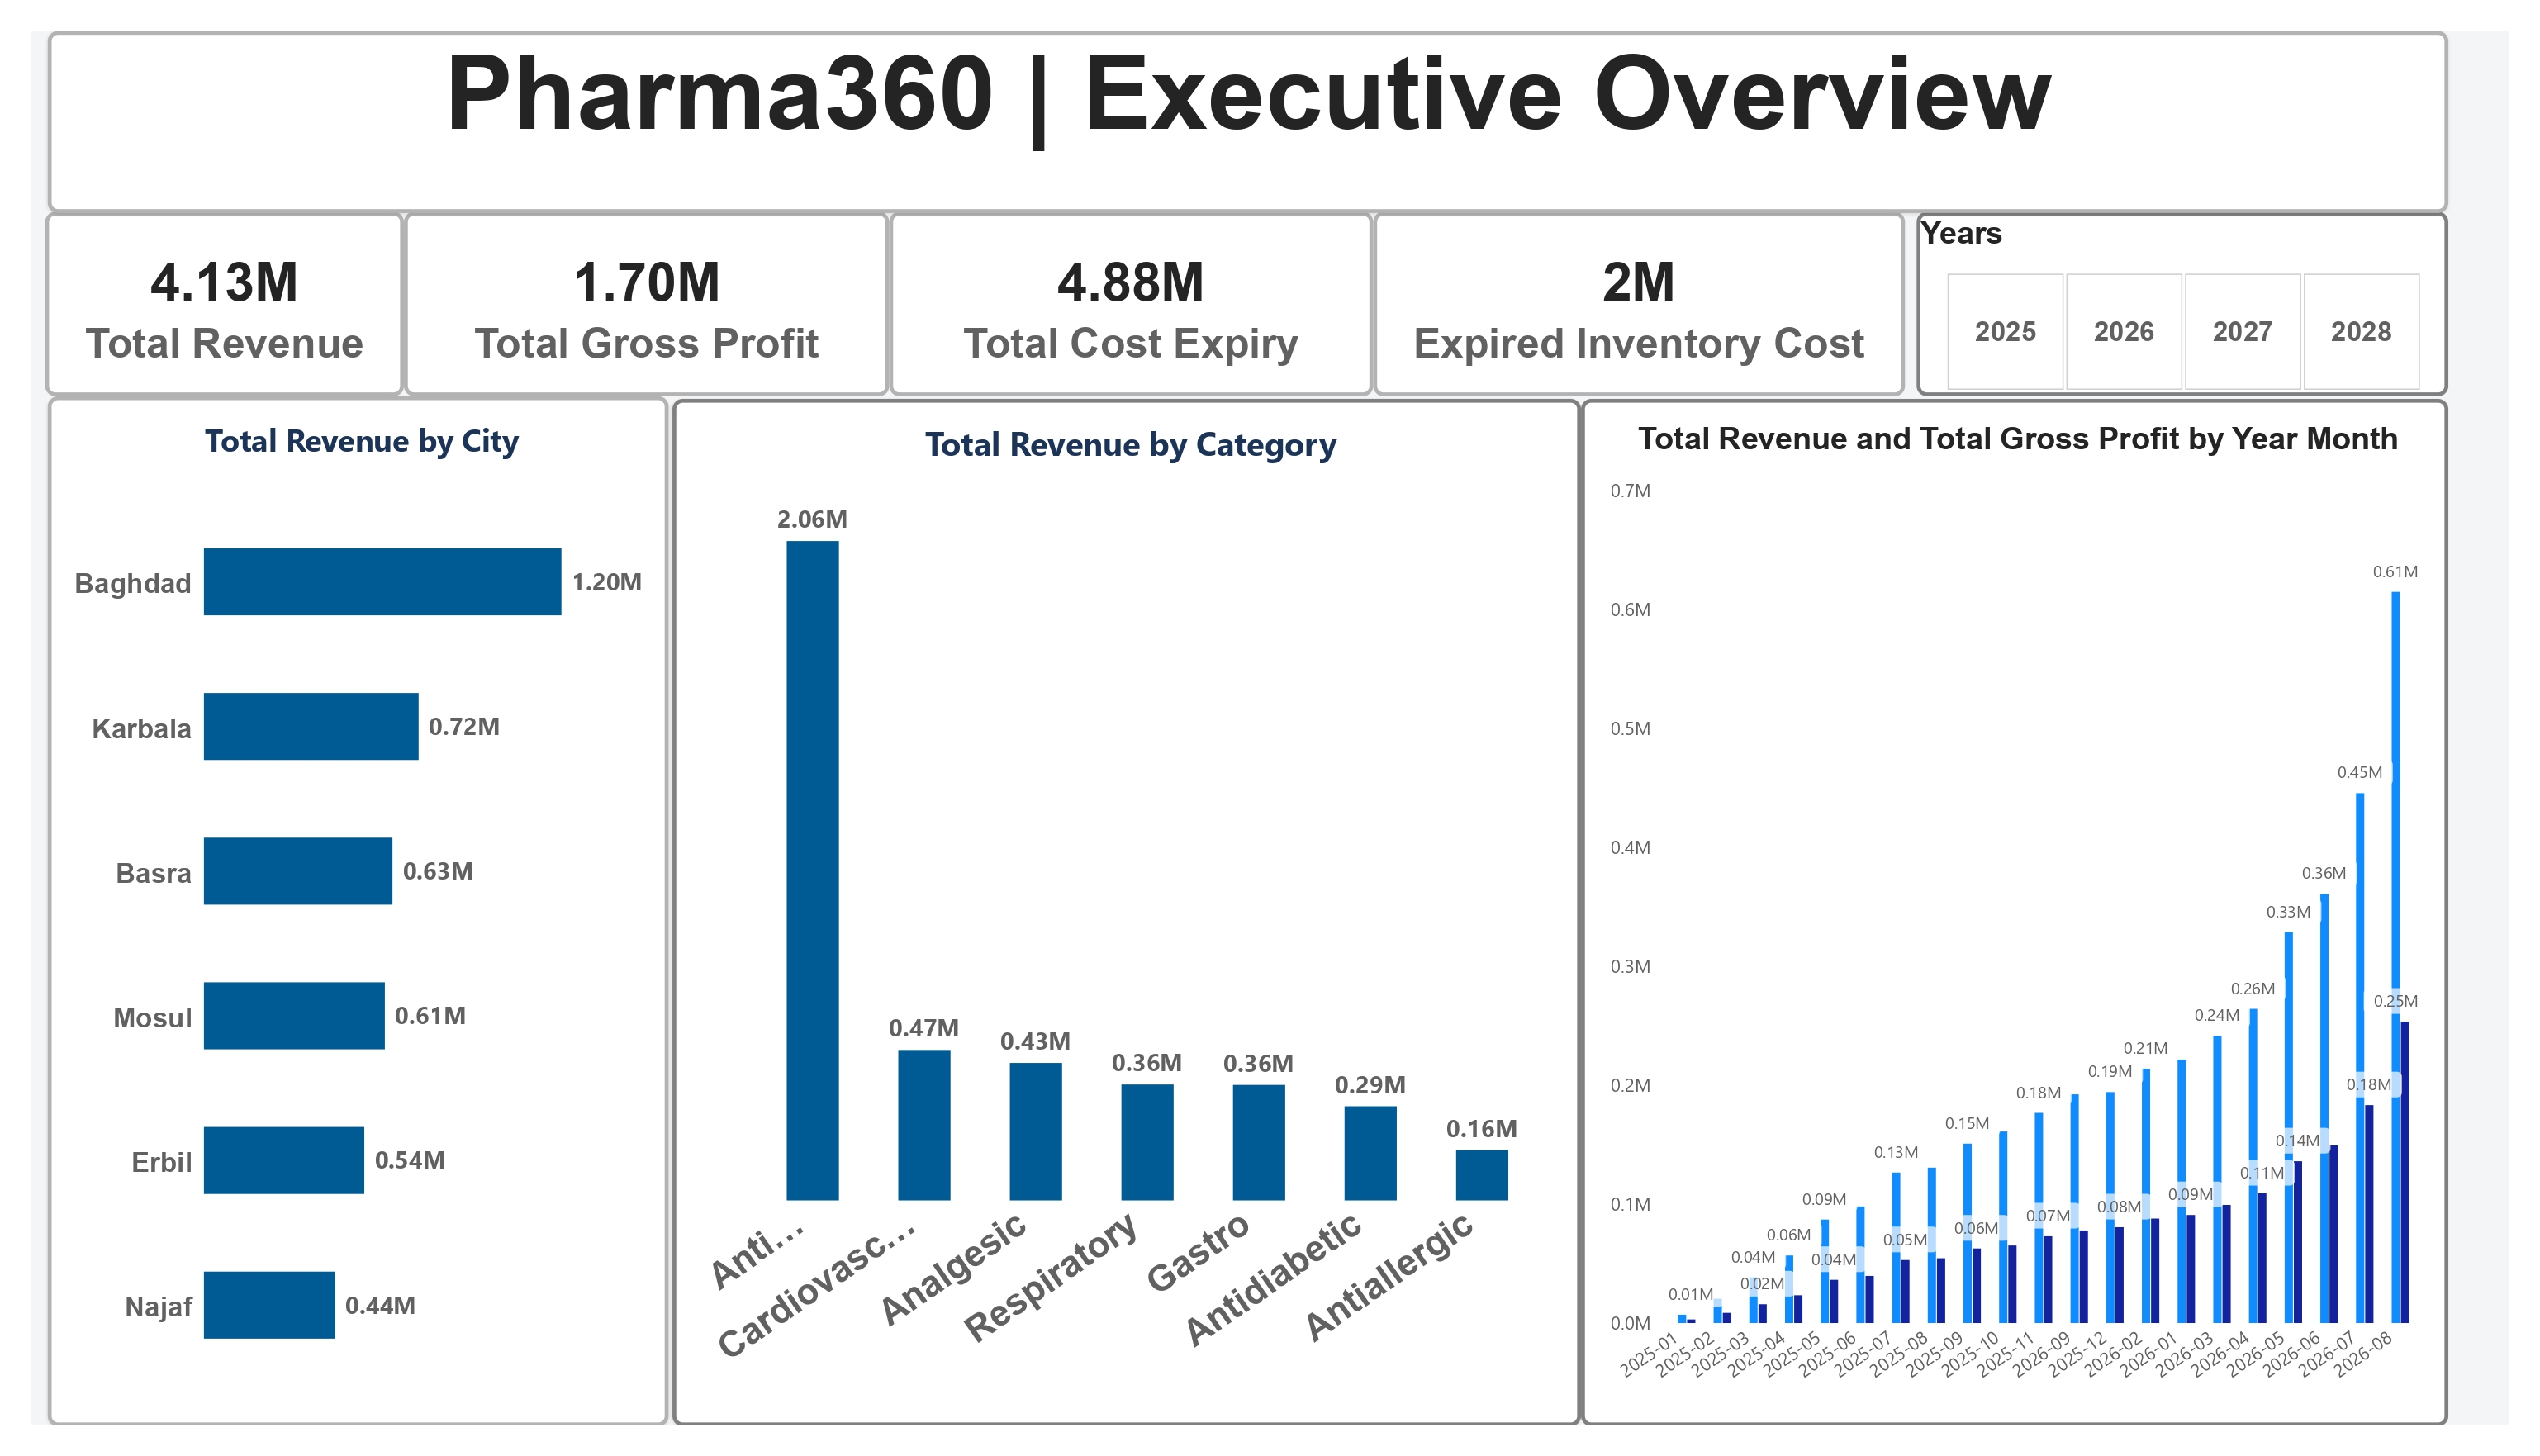

The page's visual inventory and layout, read from the dashboard file:
{"tool":"powerbi","page":{"name":"Exutive Overview","canvas":[1920,1080],"ordinal":0},"visuals":[{"type":"card","fields":{"Values":["pharma360 fact_sales.Total_Revenue"]},"box":[10.6,140.3,278.5,142.4],"z":0},{"type":"card","fields":{"Values":["pharma360 fact_sales.Total_Gross_Profit"]},"box":[289.1,140.3,376.3,142.4],"z":1000},{"type":"card","fields":{"Values":["pharma360 inventory.Total_Cost_Expiry"]},"box":[665.4,140.3,374.2,142.4],"z":2000},{"type":"card","fields":{"Values":["pharma360 inventory.Expired_Inventory_Cost"]},"box":[1039.6,140.3,412.4,142.4],"z":3000},{"type":"barChart","title":"Total Revenue by City","fields":{"Category":["pharma360 sales_rep.Primary_City"],"Y":["pharma360 fact_sales.Total_Revenue"]},"box":[12.8,282.5,481.6,798.4],"z":4000},{"type":"columnChart","title":"Total Revenue by Category","fields":{"Category":["pharma360 inventory.Category"],"Y":["Sum(pharma360 fact_sales.Revenue)"]},"box":[496.6,284.7,704.2,796.3],"z":5000},{"type":"slicer","title":"Years","fields":{"Values":["pharma360 date.Year"]},"box":[1460.6,140.3,412.4,142.4],"z":6000},{"type":"textbox","box":[12.8,0,1860.1,141.3],"z":7000},{"type":"lineClusteredColumnComboChart","title":"Total Revenue and Total Gross Profit by Year Month","fields":{"Category":["pharma360 date.Year_Month"],"Y":["pharma360 fact_sales.Total Revenue","pharma360 fact_sales.Total Gross Profit"]},"box":[1200.8,284.7,672.1,796.3],"z":8000}]}

Visuals, with their boxes on the page's 1920x1080 design canvas (x1, y1, x2, y2). These are canvas units, not pixel positions in the 2540x1456 screenshot, which may show the page scaled, cropped or inside an application window:
card - pharma360 fact_sales.Total_Revenue: [11,140,289,283]
card - pharma360 fact_sales.Total_Gross_Profit: [289,140,665,283]
card - pharma360 inventory.Total_Cost_Expiry: [665,140,1040,283]
card - pharma360 inventory.Expired_Inventory_Cost: [1040,140,1452,283]
"Total Revenue by City" barChart: [13,282,494,1081]
"Total Revenue by Category" columnChart: [497,285,1201,1081]
"Years" slicer: [1461,140,1873,283]
textbox: [13,0,1873,141]
"Total Revenue and Total Gross Profit by Year Month" lineClusteredColumnComboChart: [1201,285,1873,1081]
